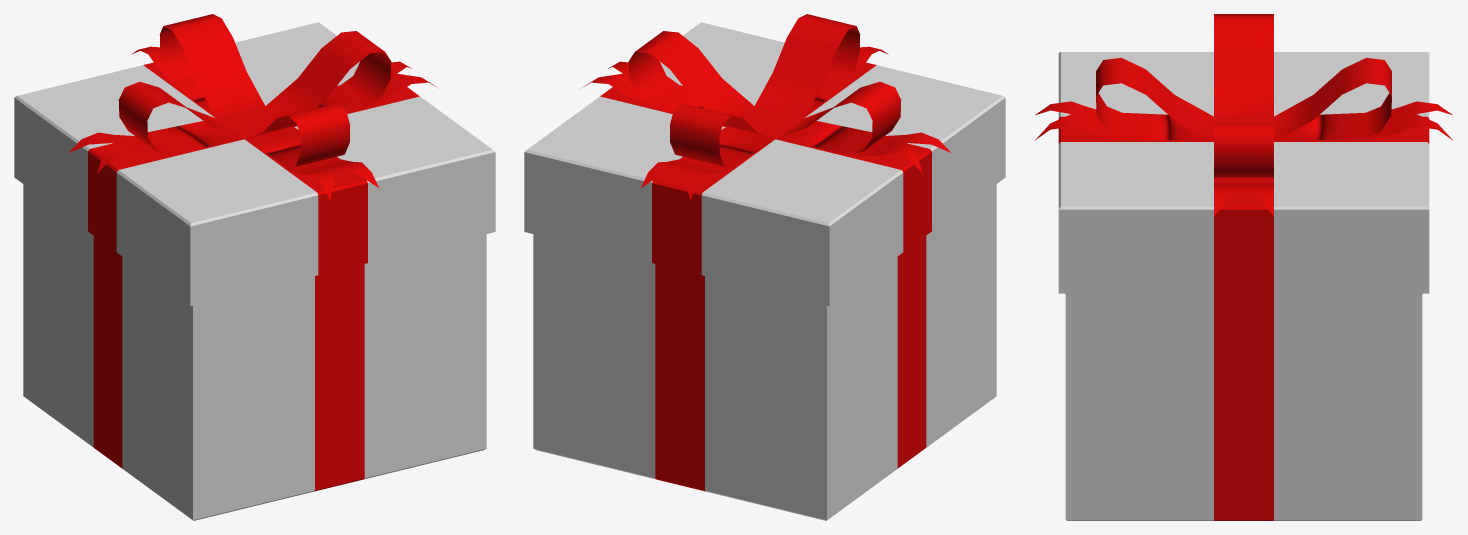
The model's file is gift_box_3d_model_free_download.glb.
3 renders of one model, left to right at view 1: azimuth 30°, elevation 25°; view 2: azimuth 150°, elevation 25°; view 3: azimuth 270°, elevation 25°, orthographic. The views are drawn at different scales.
Visible parts, largest first — view 1: GiftBox, GiftLid; view 2: GiftBox, GiftLid; view 3: GiftLid, GiftBox.
Boxes of the visible parts, left/top/right/bottom form: GiftBox: left=23, top=184, right=486, bottom=520; GiftLid: left=14, top=14, right=495, bottom=306; GiftBox: left=533, top=184, right=996, bottom=520; GiftLid: left=524, top=14, right=1005, bottom=306; GiftLid: left=1035, top=14, right=1452, bottom=293; GiftBox: left=1065, top=293, right=1422, bottom=520.
Size of what is drawn, in the model's own units: 1.81 by 1.79 by 1.81.
